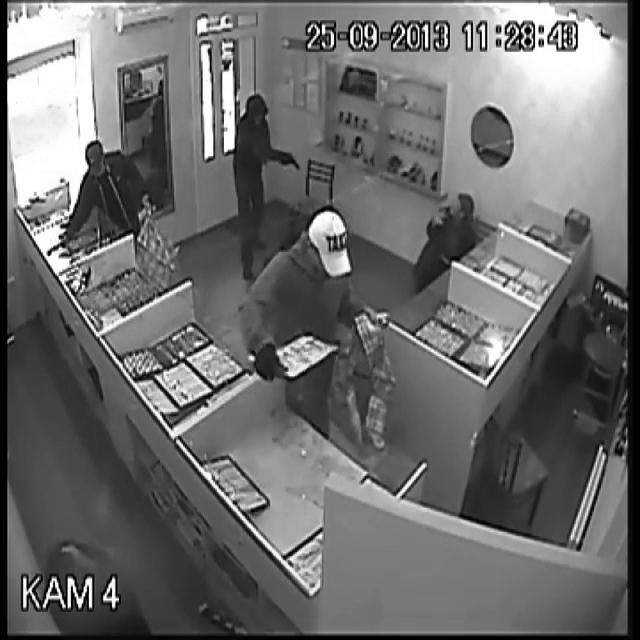gun: (276, 136, 302, 182)
person: (234, 198, 364, 410), (62, 133, 165, 274), (418, 194, 478, 272)
person with a gun: (226, 86, 298, 286)
